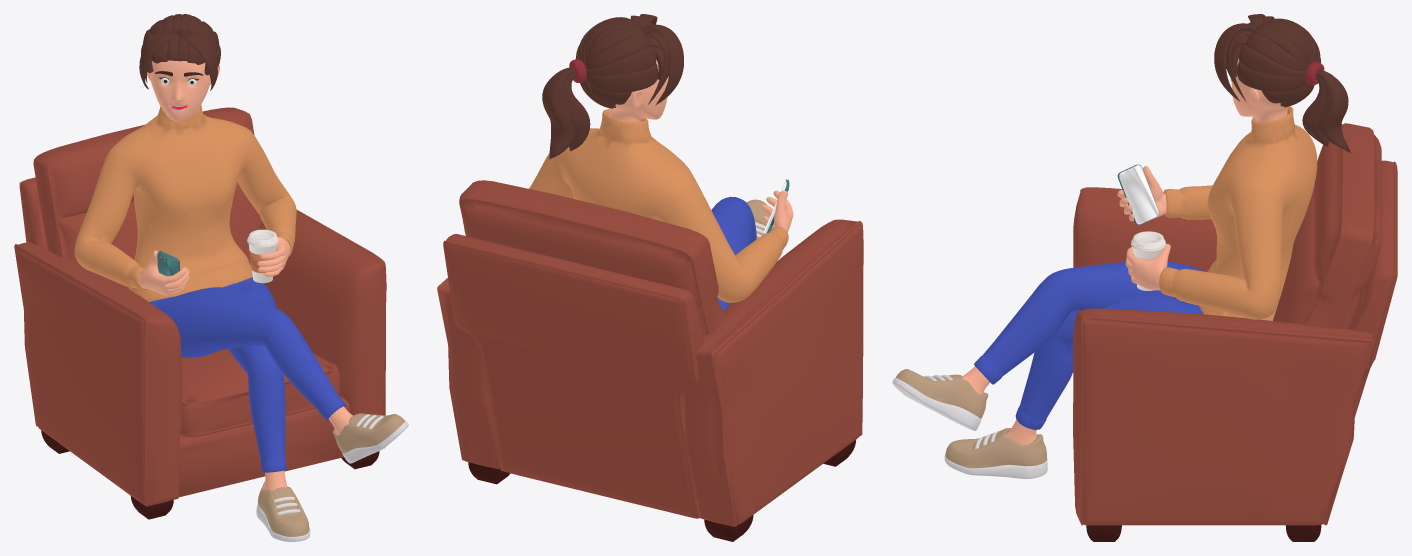
File: sit.glb
3 views of the same model, side by side, from view 1: azimuth 30°, elevation 25°; view 2: azimuth 150°, elevation 25°; view 3: azimuth 270°, elevation 25° (orthographic). The views are drawn at different scales.
Visible parts, largest first — view 1: Armchair, sweater, pants, Cup, hair, shoe; view 2: Armchair, sweater, hair, Cup, pants; view 3: Armchair, sweater, Cup, pants, hair, shoe.
Boxes of the visible parts, x1=… form: Armchair: x1=14, y1=107, x2=386, y2=506; sweater: x1=74, y1=104, x2=296, y2=302; pants: x1=149, y1=277, x2=345, y2=472; Cup: x1=41, y1=60, x2=404, y2=536; hair: x1=139, y1=14, x2=220, y2=90; shoe: x1=256, y1=414, x2=408, y2=541; Armchair: x1=437, y1=180, x2=863, y2=526; sweater: x1=529, y1=109, x2=788, y2=302; hair: x1=542, y1=14, x2=683, y2=159; Cup: x1=468, y1=59, x2=855, y2=541; pants: x1=711, y1=196, x2=756, y2=311; Armchair: x1=1073, y1=123, x2=1397, y2=525; sweater: x1=1159, y1=106, x2=1317, y2=320; Cup: x1=895, y1=58, x2=1324, y2=541; pants: x1=974, y1=261, x2=1204, y2=429; hair: x1=1214, y1=14, x2=1350, y2=152; shoe: x1=892, y1=374, x2=1047, y2=478.
Bounding box in the file's own units: 0.6738 × 1.07 × 1.06.
Materials: 10 (10 with a texture image).
